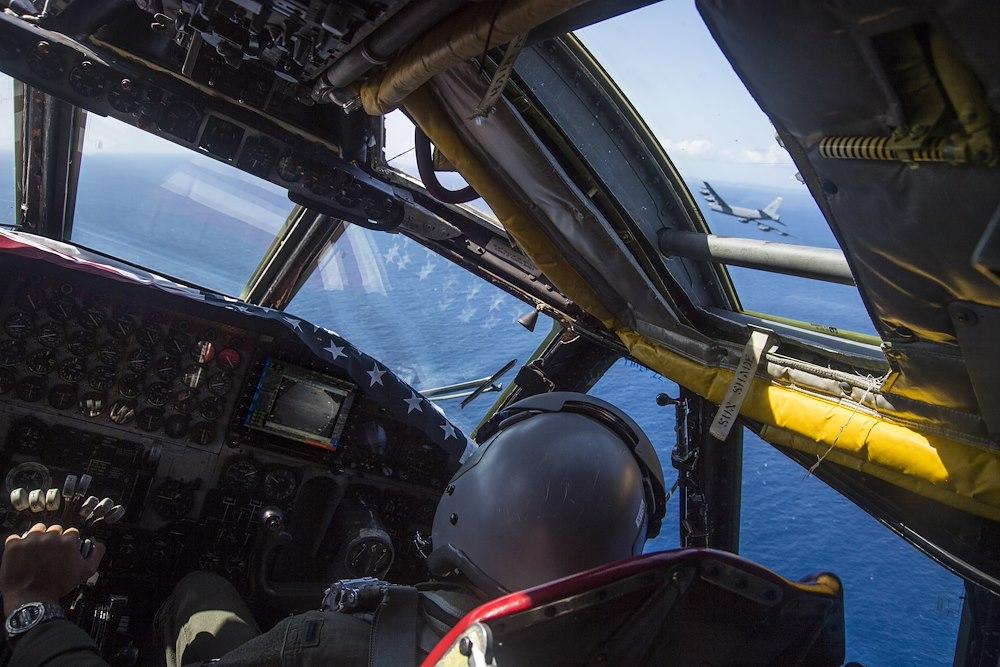B52: (697, 180, 801, 241)
